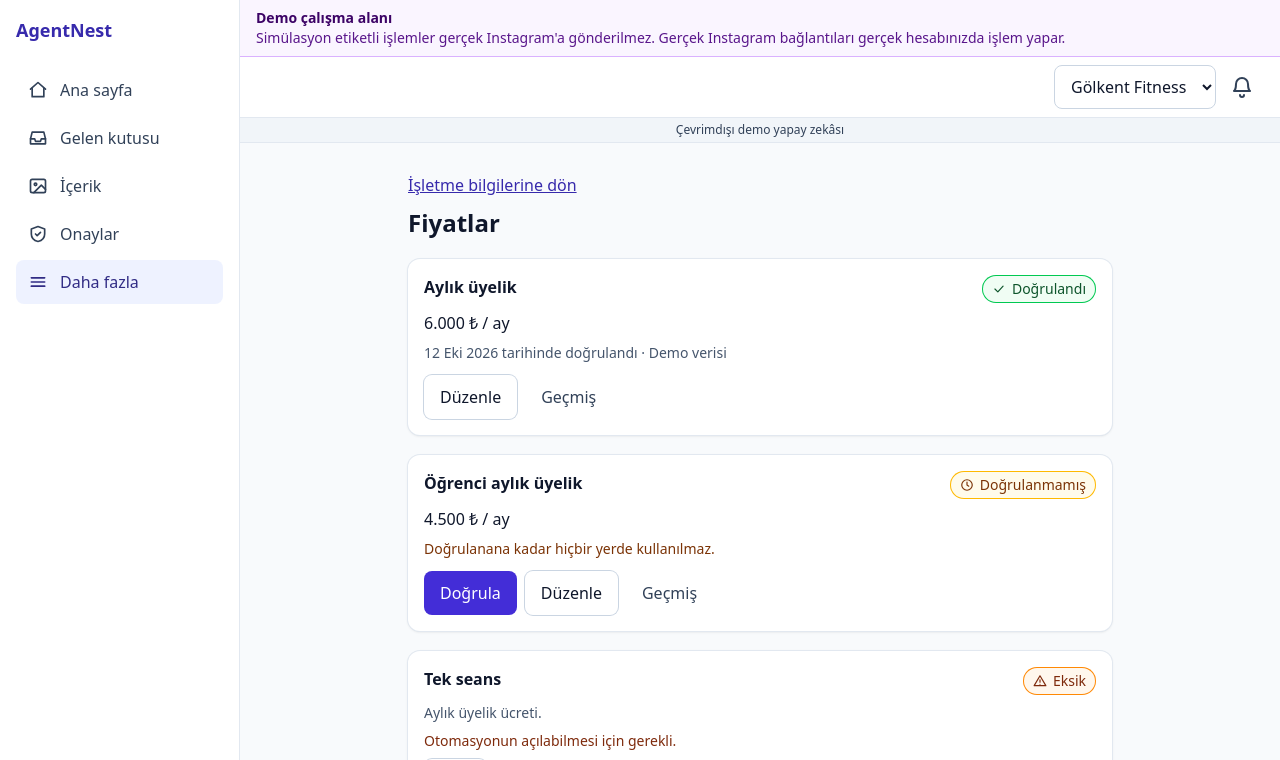
Test: category screen › shows a history of immutable versions
Click the button "Geçmiş" below "12 Eki 2026 tarihinde doğrulandı" at {"x": 569, "y": 397}, box x1=525 y1=375 x2=612 y2=419
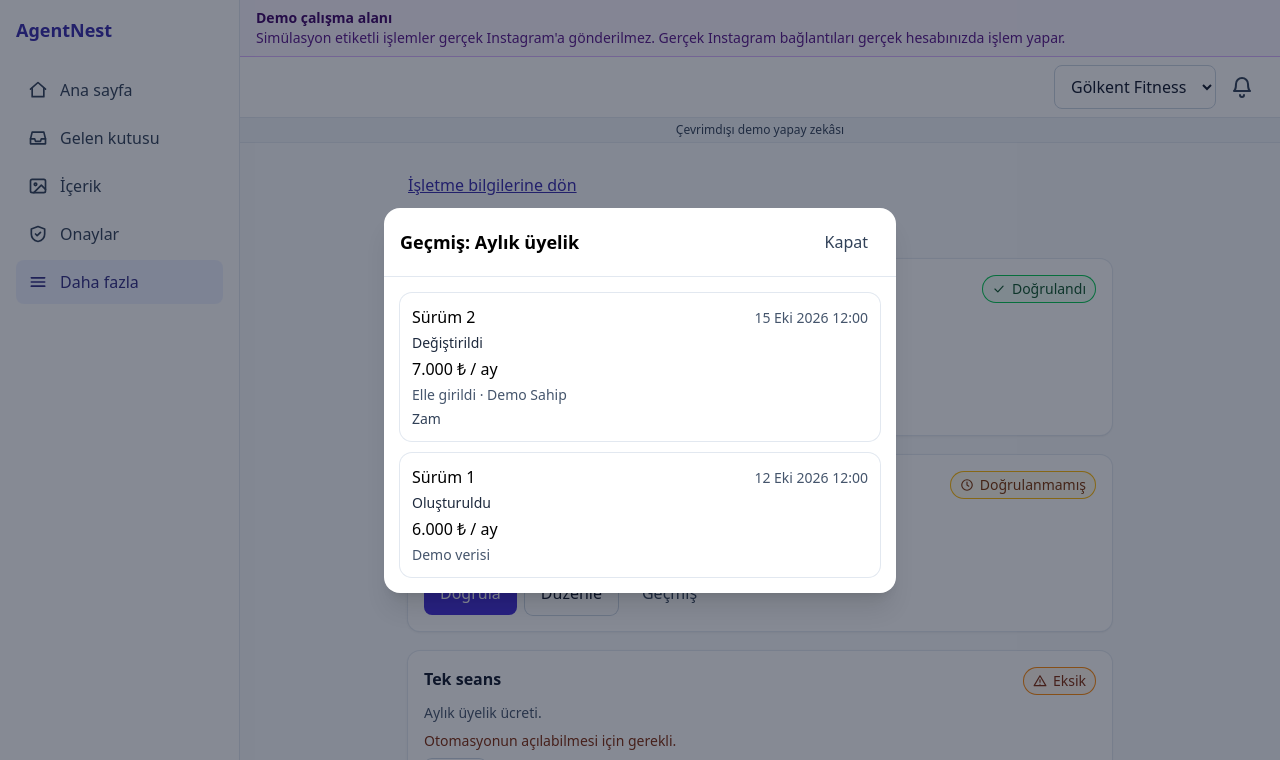
Expected: the text "Sürüm 2" is shown, x1=412 y1=304 x2=476 y2=328
Expected: the text "Sürüm 1" is shown, x1=412 y1=464 x2=476 y2=488
Expected: the dialog "Geçmiş: Aylık üyelik" shows "Demo Sahip", x1=476 y1=384 x2=567 y2=404
